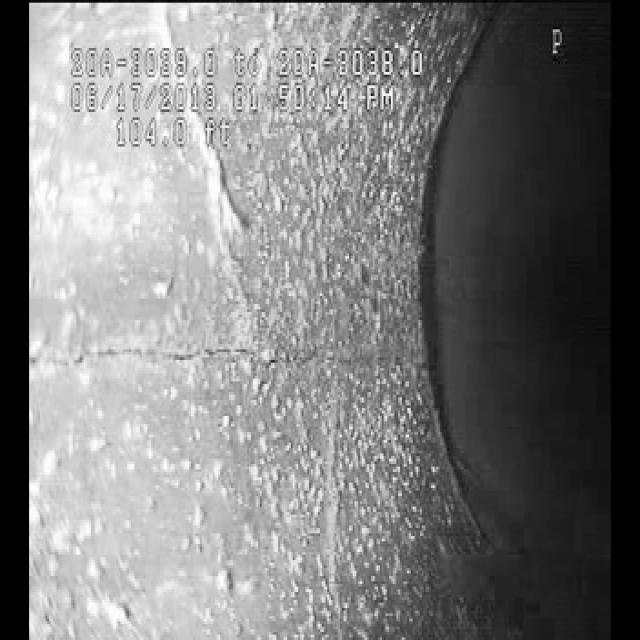Crack: (41, 307, 384, 405)
